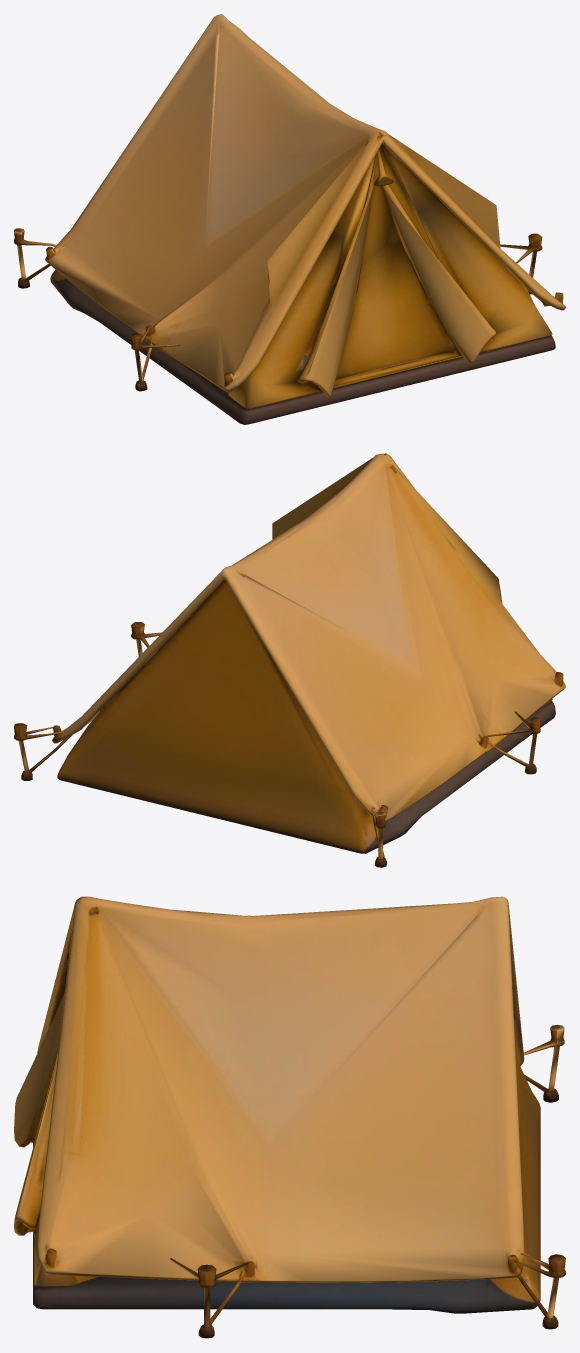
The model's file is Outdoor__a_camping_tent_03742dd5_v4.cluster.glb.
3 views of the same model, one above another, from view 1: azimuth 30°, elevation 25°; view 2: azimuth 150°, elevation 25°; view 3: azimuth 270°, elevation 25° (orthographic). The views are drawn at different scales.
Visible parts, largest first — view 1: material; view 2: material; view 3: material.
Part boxes in pixels (x1,y1,x2,y2): material: (14,14,565,424); material: (14,453,565,867); material: (14,896,565,1338).
Bounding box in the file's own units: 1.9 × 1.07 × 1.71.
1 material, 1 textured.
